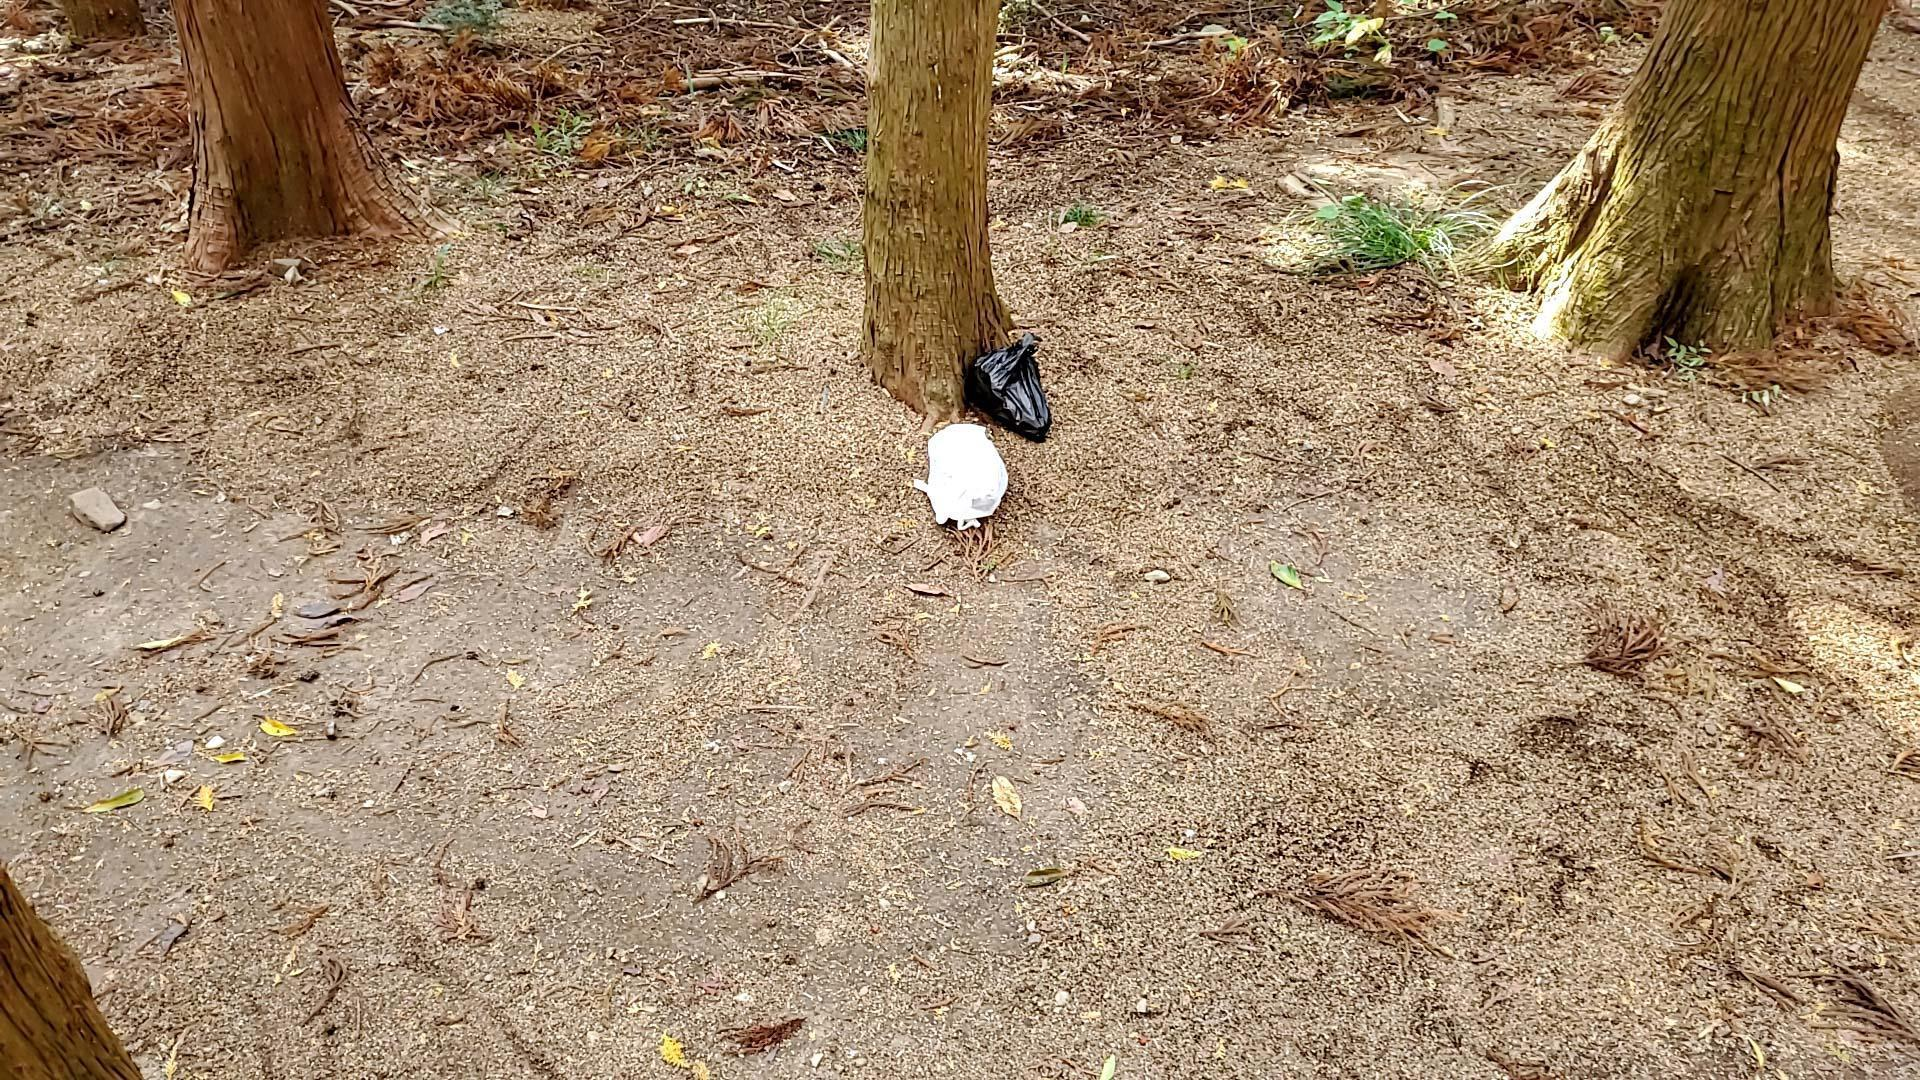black_bag: (963, 328, 1059, 442)
white_bag: (905, 419, 1010, 531)
